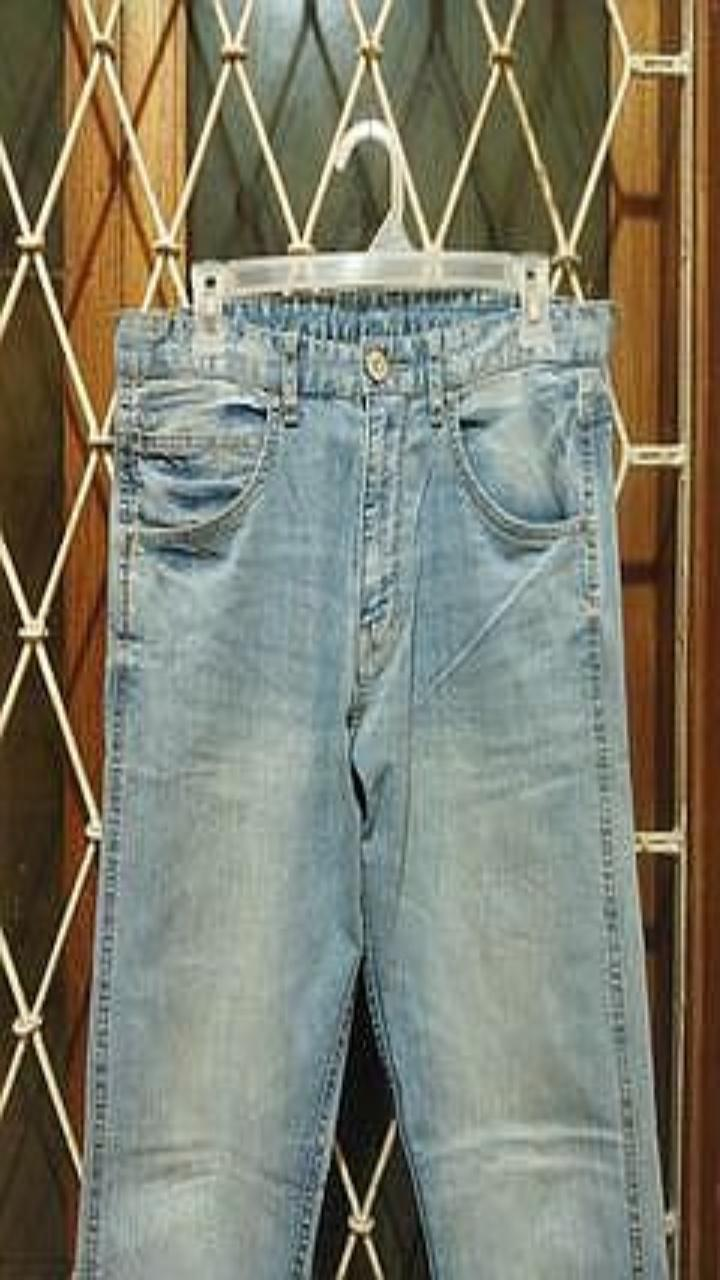Jeans: (74, 293, 665, 1279)
